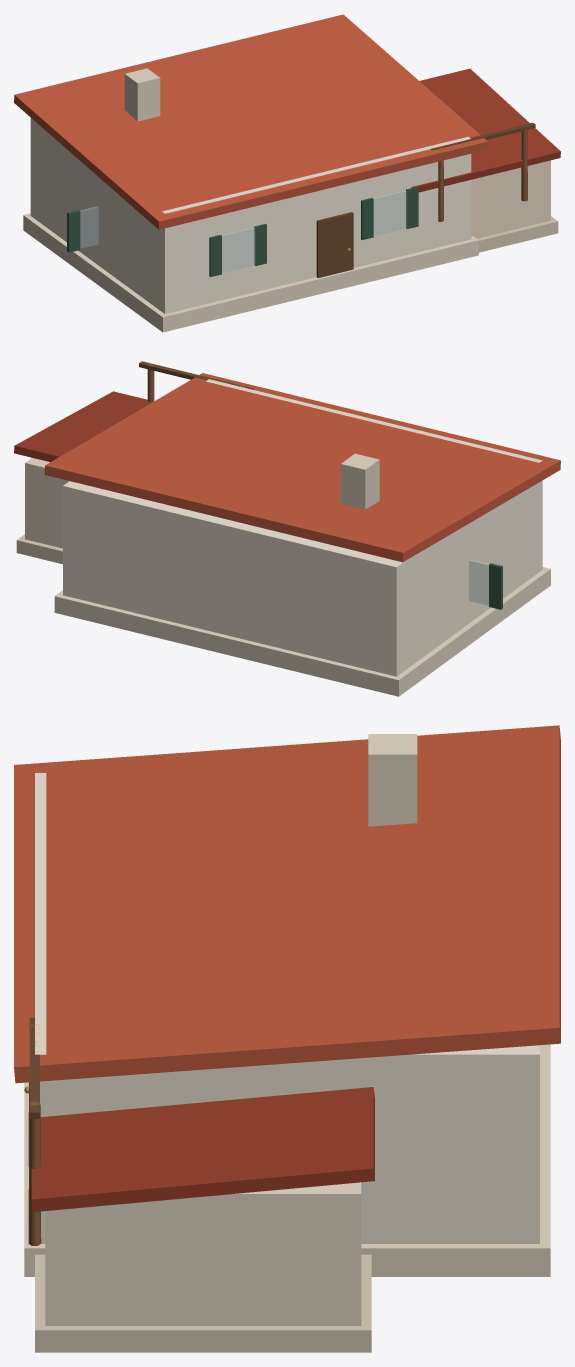
Rendered from maison.glb.
The picture shows the model from 3 angles, top to bottom: view 1: azimuth 30°, elevation 25°; view 2: azimuth 150°, elevation 25°; view 3: azimuth 270°, elevation 25°; orthographic projection. The views are drawn at different scales.
Parts seen in each view (by area): view 1: MaisonAtelier; view 2: MaisonAtelier; view 3: MaisonAtelier.
Boxes of the visible parts, x1,y1,x2,y2 form: MaisonAtelier: (14, 14, 560, 332); MaisonAtelier: (14, 361, 560, 696); MaisonAtelier: (14, 725, 560, 1352).
Size of the model in its own units: 13.17 by 4.93 by 7.8.
